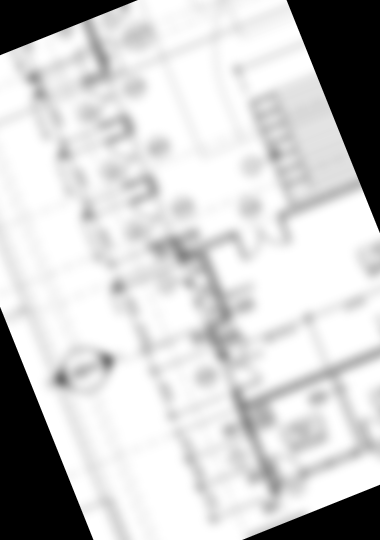door: (264, 444, 308, 490), (354, 407, 380, 454)
double door: (230, 213, 296, 265), (212, 333, 264, 396), (102, 129, 151, 190), (126, 190, 175, 250), (81, 75, 129, 129)
wall: (240, 330, 380, 412), (277, 179, 362, 223), (196, 246, 238, 326), (176, 231, 238, 263), (204, 310, 244, 337), (256, 458, 282, 499), (204, 326, 224, 353)
